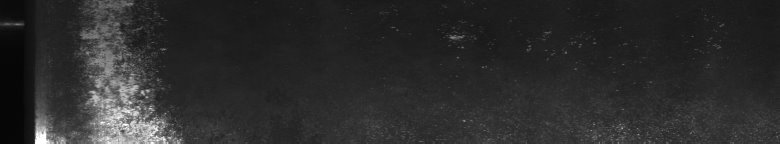kb: (40, 4, 182, 136)
